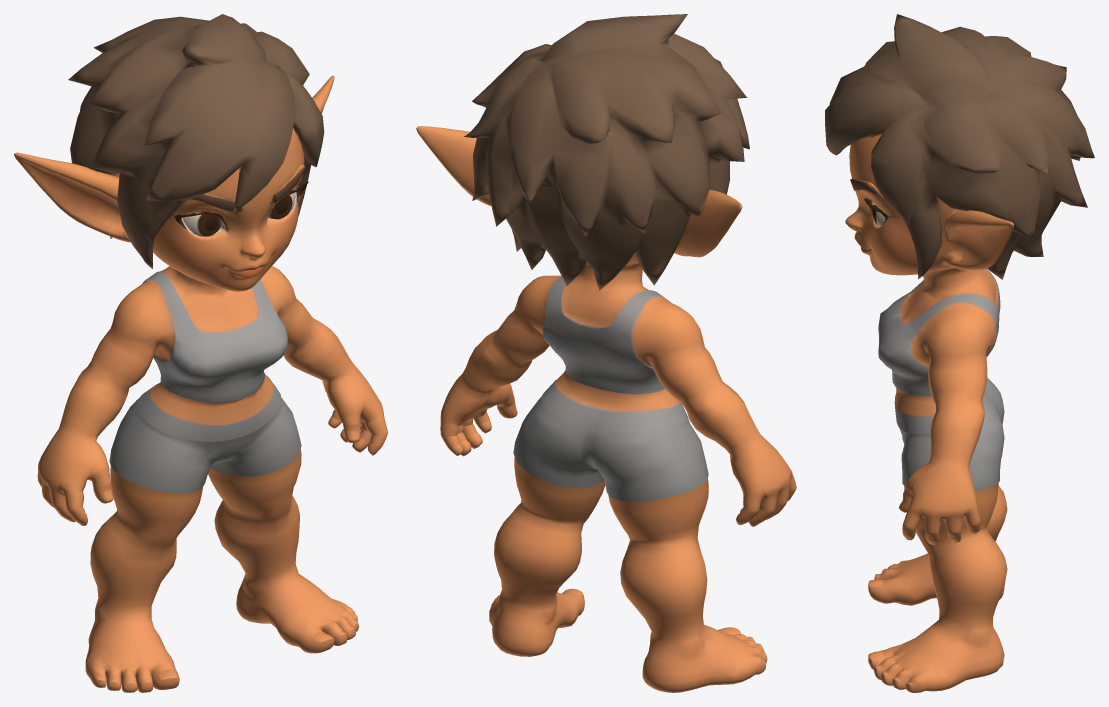
Rendered from elf-female-v2-p2-8000-textured.fbx.
3 views of the same model, side by side, from view 1: azimuth 30°, elevation 25°; view 2: azimuth 150°, elevation 25°; view 3: azimuth 270°, elevation 25° (orthographic). The views are drawn at different scales.
Visible parts, largest first — view 1: tripo_840eb8ff_e1bc_49b8_b016_2a01e2c052f8; view 2: tripo_840eb8ff_e1bc_49b8_b016_2a01e2c052f8; view 3: tripo_840eb8ff_e1bc_49b8_b016_2a01e2c052f8.
Boxes of the visible parts, left/top/right/bottom form: tripo_840eb8ff_e1bc_49b8_b016_2a01e2c052f8: left=14, top=14, right=387, bottom=692; tripo_840eb8ff_e1bc_49b8_b016_2a01e2c052f8: left=416, top=14, right=796, bottom=692; tripo_840eb8ff_e1bc_49b8_b016_2a01e2c052f8: left=825, top=14, right=1094, bottom=692.
Bounding box in the file's own units: 0.5513 × 0.9995 × 0.4067.
1 material, 1 textured.
